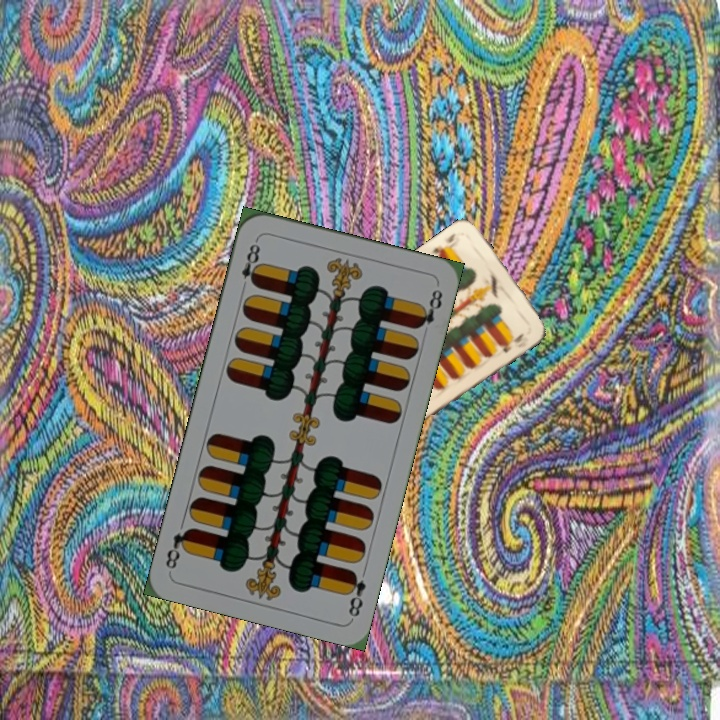E10: (428, 229, 459, 260)
E8: (237, 235, 264, 293), (342, 566, 369, 620)
